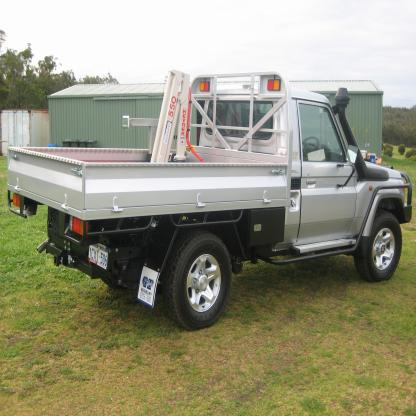light_vehicle: (4, 70, 416, 345)
